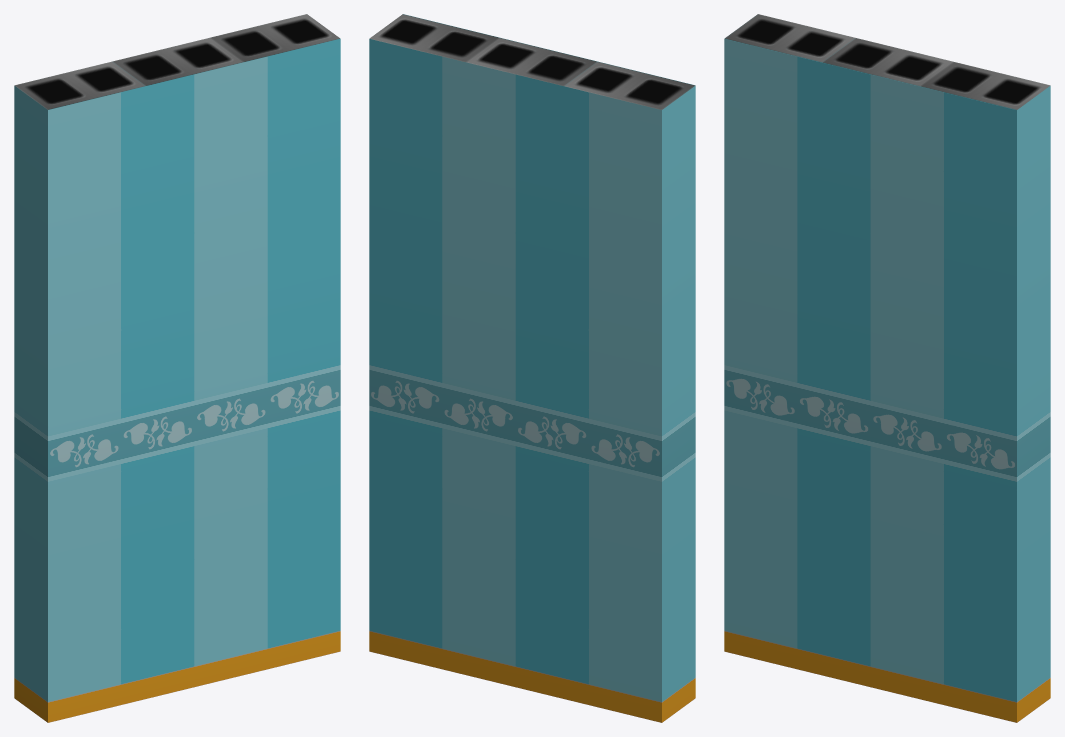
File: wall.FBX
3 renders of one model, left to right at view 1: azimuth 30°, elevation 25°; view 2: azimuth 150°, elevation 25°; view 3: azimuth 330°, elevation 25°, orthographic.
Parts seen in each view (by area): view 1: wall; view 2: wall; view 3: wall.
Part boxes in pixels (left/top/right/bottom): wall: left=14, top=14, right=340, bottom=722; wall: left=369, top=14, right=695, bottom=722; wall: left=724, top=14, right=1050, bottom=722.
Bounding box in the file's own units: 0.0254 × 0.00508 × 0.0508.
